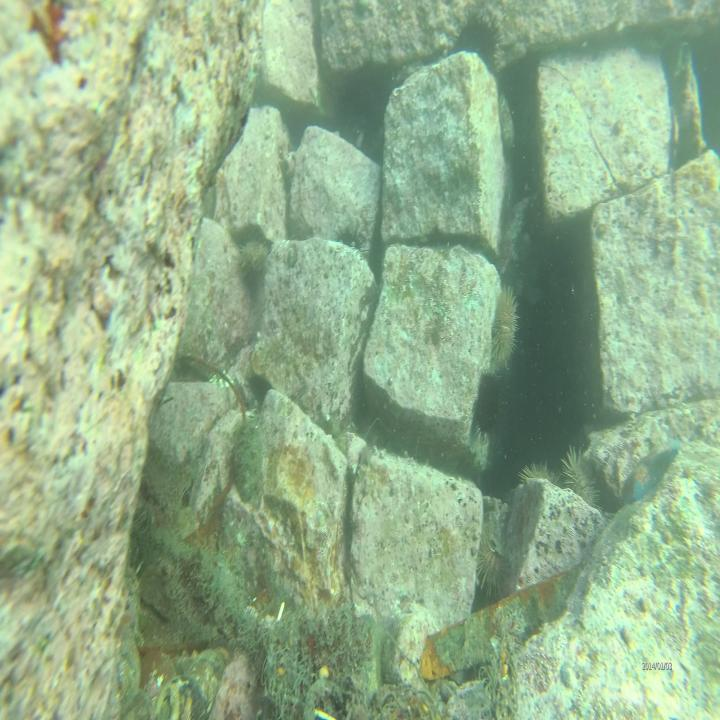echinus: (452, 8, 507, 84), (476, 514, 516, 597), (492, 281, 522, 376), (562, 447, 604, 514), (518, 458, 561, 502), (237, 233, 269, 291), (331, 223, 367, 263)
starfish: (621, 436, 683, 506)
